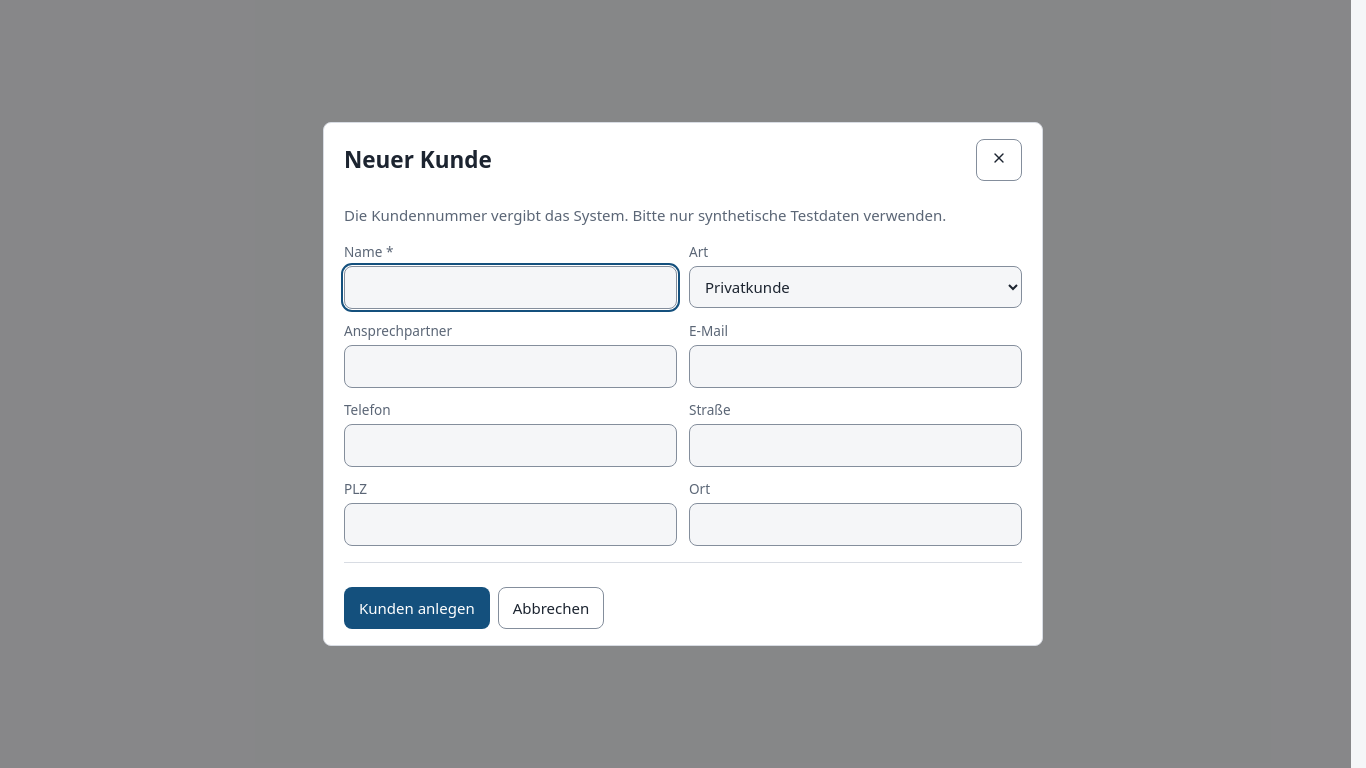
Scenario: Kundenanlage im Dialog › behaelt die Eingaben, wenn der Server einen Feldfehler meldet
Type "Familie Ahrens" into the field labelled "Name *" at [510, 288], box [344,266,677,309]
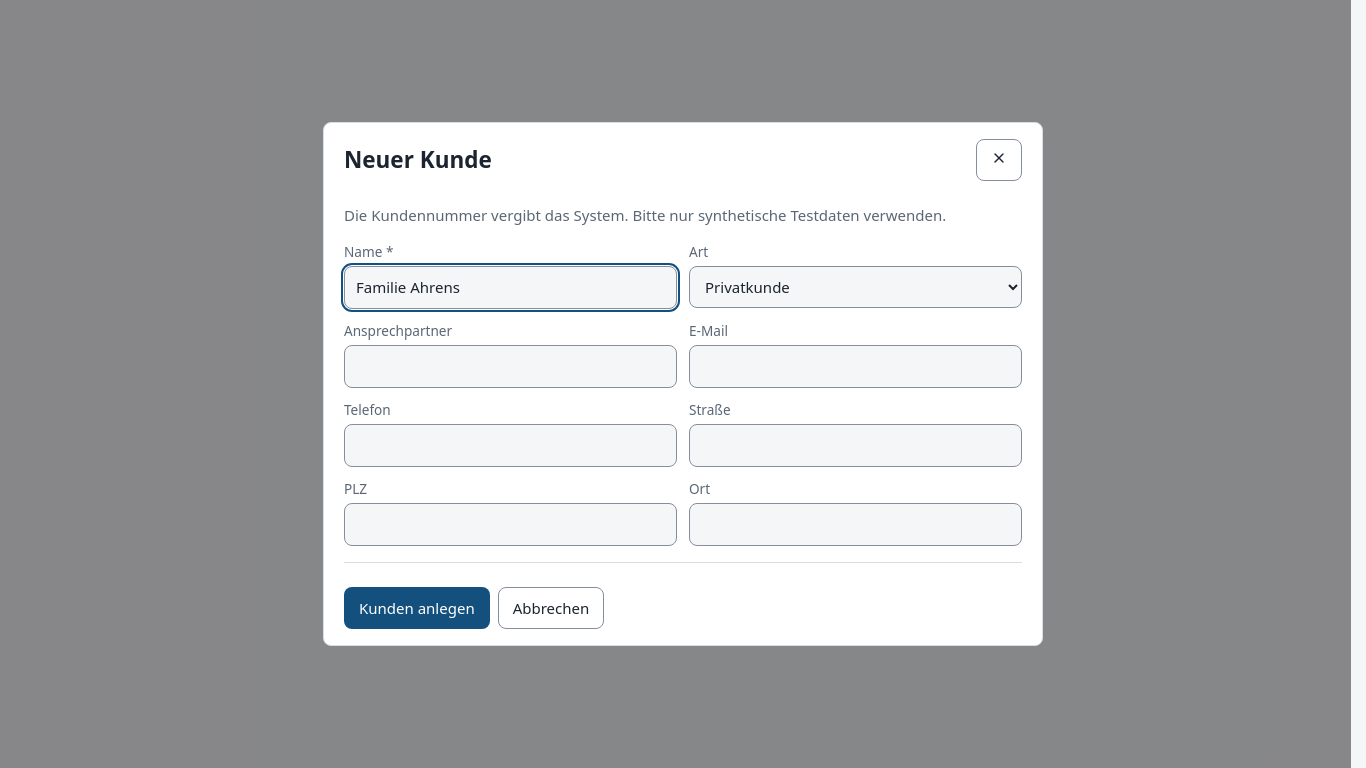
Type "keine-mail" into the field labelled "E-Mail" at [856, 367], box [689,345,1022,388]
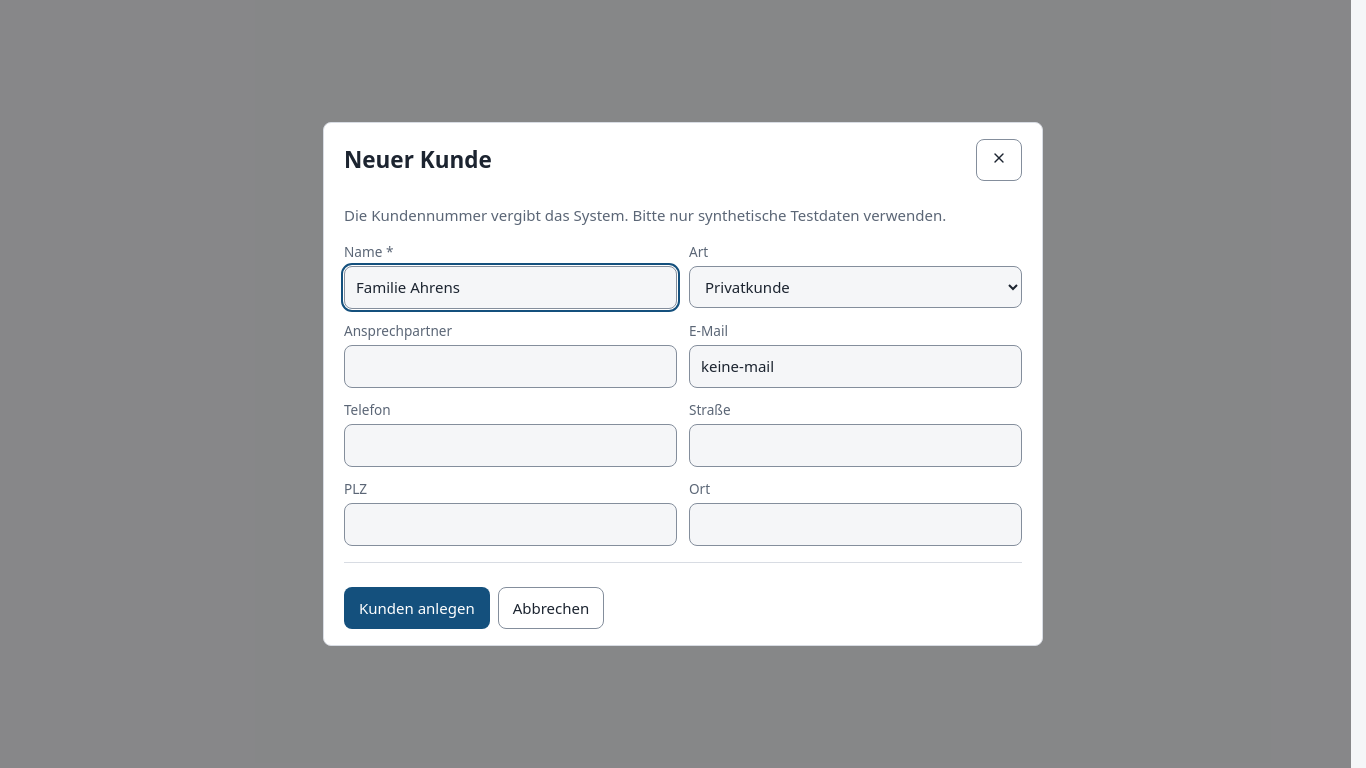
Click the button "Kunden anlegen" at [417, 608], box [344,586,490,629]
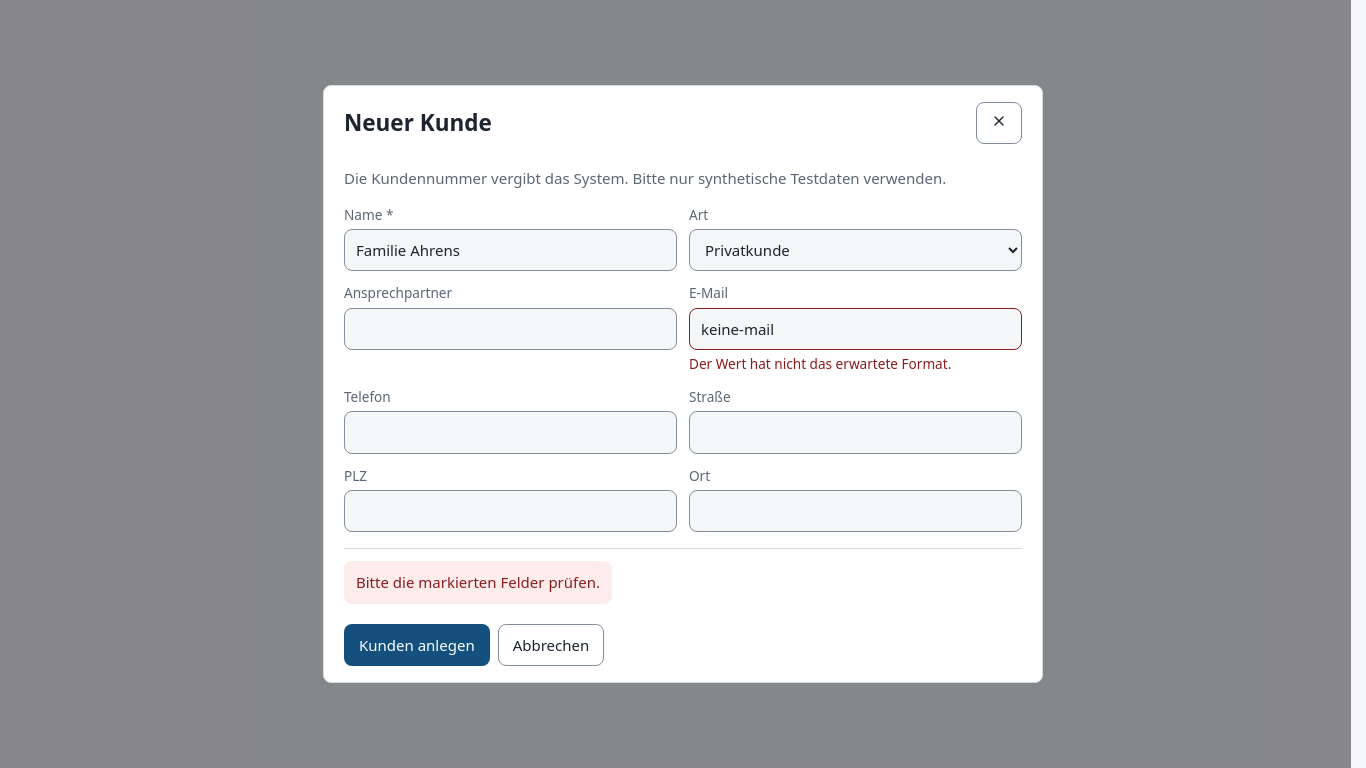
Expected: the text "Der Wert hat nicht das erwartete Format." is shown, [689,354,951,373]
Expected: the text "Bitte die markierten Felder prüfen." is shown, [344,562,612,604]
